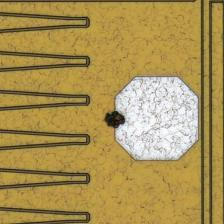PARTICLE: (106, 110, 126, 130)
